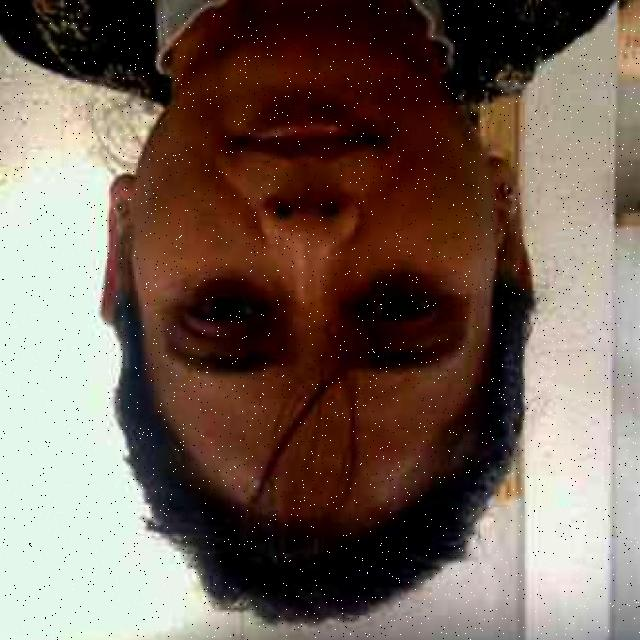puffy_eyes: (350, 264, 447, 301), (192, 282, 276, 301)
